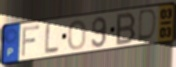9: (90, 16, 108, 49)
B: (115, 11, 138, 47)
D: (136, 8, 158, 43)
F: (20, 24, 41, 59)
L: (43, 22, 60, 55)
O: (67, 19, 87, 51)
